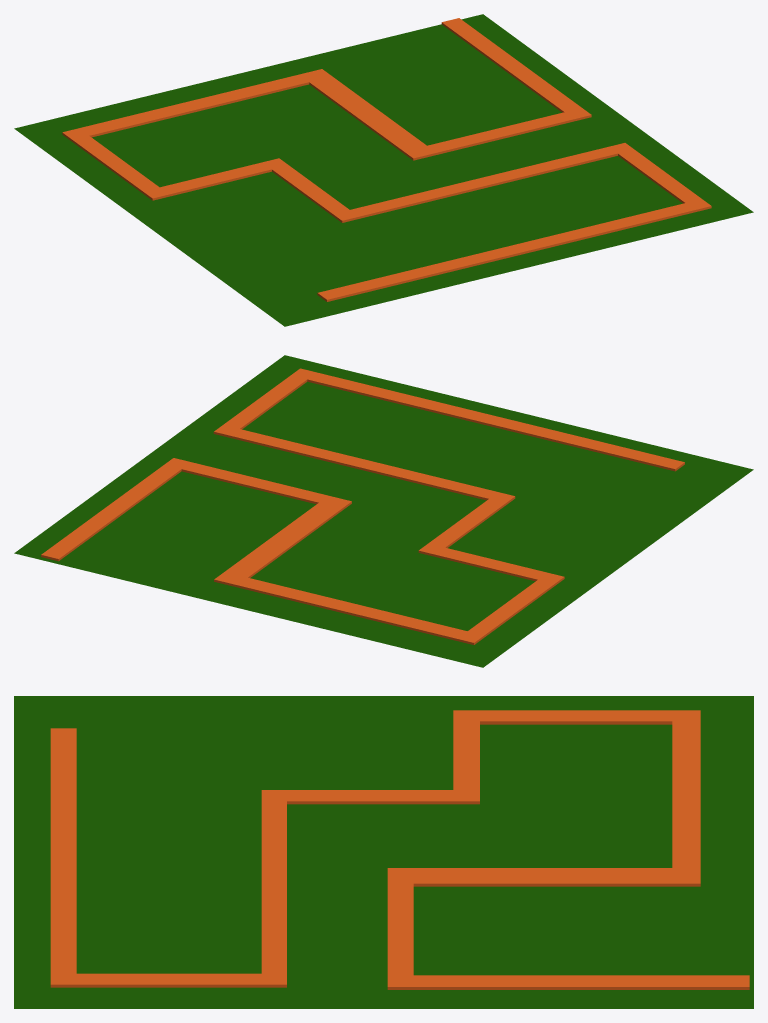
File: path_1.fbx
3 renders of one model, top to bottom at view 1: azimuth 30°, elevation 25°; view 2: azimuth 150°, elevation 25°; view 3: azimuth 270°, elevation 25°, orthographic. The views are drawn at different scales.
Parts seen in each view (by area): view 1: Plane, Cube; view 2: Plane, Cube; view 3: Plane, Cube.
Boxes of the visible parts, x1,y1,x2,y2 form: Plane: (14, 14, 753, 326); Cube: (62, 18, 711, 301); Plane: (14, 355, 753, 667); Cube: (41, 368, 684, 644); Plane: (14, 696, 753, 1008); Cube: (50, 710, 749, 989).
Bounding box in the file's own units: 5655 × 41.38 × 5655.
